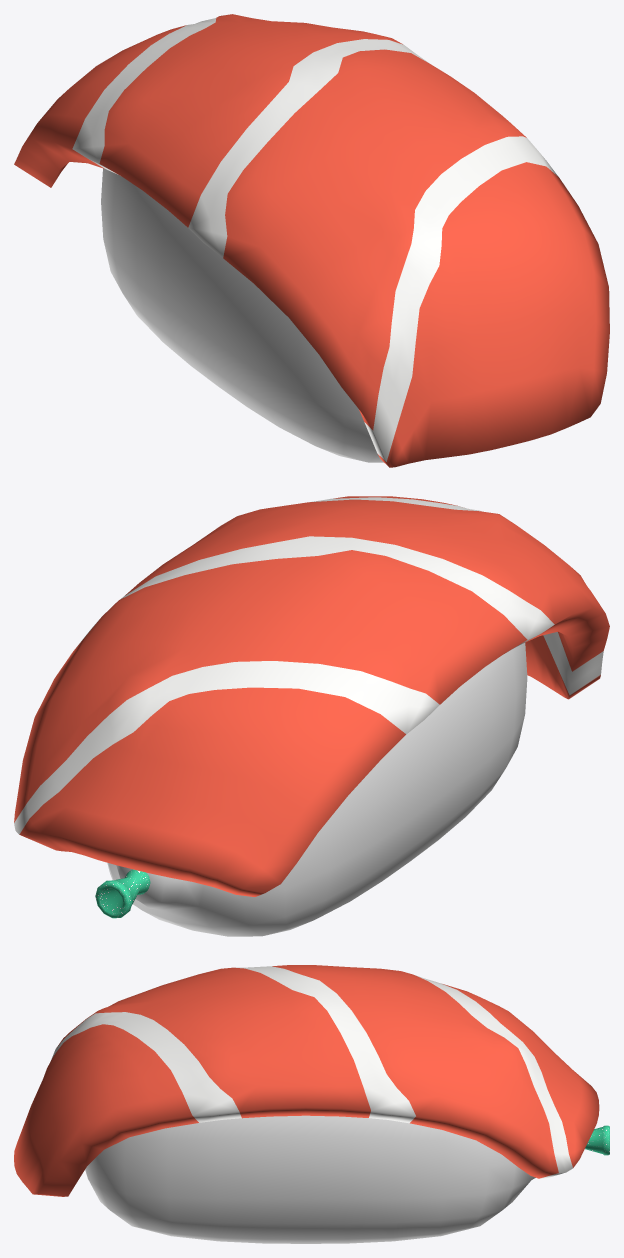
The model's file is BalloonSushi.fbx.
3 views of the same model, one above another, from view 1: azimuth 30°, elevation 25°; view 2: azimuth 150°, elevation 25°; view 3: azimuth 270°, elevation 25° (orthographic). The views are drawn at different scales.
Parts seen in each view (by area): view 1: Cube.004; view 2: Cube.004; view 3: Cube.004.
Boxes of the visible parts, x1,y1,x2,y2 form: Cube.004: (14, 14, 609, 467); Cube.004: (14, 496, 609, 936); Cube.004: (14, 965, 609, 1243).
Bounding box in the file's own units: 432 × 194 × 215.
